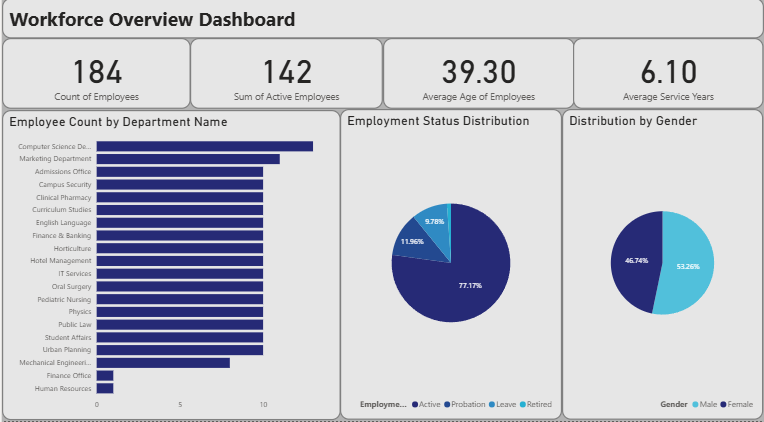

Layout of this report page (visuals, bound fields, positions):
{"tool":"powerbi","page":{"name":"Workforce Overview","canvas":[1280,720],"ordinal":0},"visuals":[{"type":"card","title":"Sum of Employees","fields":{"Values":["CountNonNull(vw_employee.Employee_ID)"]},"box":[0,77.3,317.5,119.3],"z":0},{"type":"card","fields":{"Values":["Sum(vw_active_employees.Active_Employees)"]},"box":[315.8,77.3,324.2,119.3],"z":1000},{"type":"actionButton","box":[0,0,100,40],"z":2000},{"type":"card","fields":{"Values":["Sum(vw_average_employee_age.Avg_Employee_Age)"]},"box":[636.6,77.3,322.5,119.3],"z":3000},{"type":"card","fields":{"Values":["Sum(vw_average_service_years.Average_Service_Years)"]},"box":[959.2,77.3,319.2,119.3],"z":4000},{"type":"barChart","fields":{"Category":["employee_count_by_department.Department_Name"],"Y":["Sum(employee_count_by_department.Employee_Count)"]},"box":[0,196.5,569.4,522.4],"z":5000},{"type":"pieChart","title":"Employment Status Distribution","fields":{"Category":["employment_status_distribution.Employment_Status"],"Y":["Sum(employment_status_distribution.Percentage)"]},"box":[567.8,196.5,372.9,522.4],"z":6000},{"type":"pieChart","fields":{"Category":["gender_distribution.Gender"],"Y":["Sum(gender_distribution.Count)"]},"box":[940.7,196.5,337.6,522.4],"z":7000},{"type":"textbox","box":[0,10,1280.2,67.7],"z":8000}]}

Visuals, with their boxes in screenshot pixels (x1, y1, x2, y2), scaled from the page's 1280x720 canvas onto the 764x422 screenshot:
"Sum of Employees" card: bbox(0, 45, 190, 115)
card - Sum(vw_active_employees.Active_Employees): bbox(188, 45, 382, 115)
actionButton: bbox(0, 0, 60, 23)
card - Sum(vw_average_employee_age.Avg_Employee_Age): bbox(380, 45, 572, 115)
card - Sum(vw_average_service_years.Average_Service_Years): bbox(573, 45, 763, 115)
barChart - employee_count_by_department.Department_Name x Sum(employee_count_by_department.Employee_Count): bbox(0, 115, 340, 421)
"Employment Status Distribution" pieChart: bbox(339, 115, 561, 421)
pieChart - gender_distribution.Gender x Sum(gender_distribution.Count): bbox(561, 115, 763, 421)
textbox: bbox(0, 6, 763, 46)
